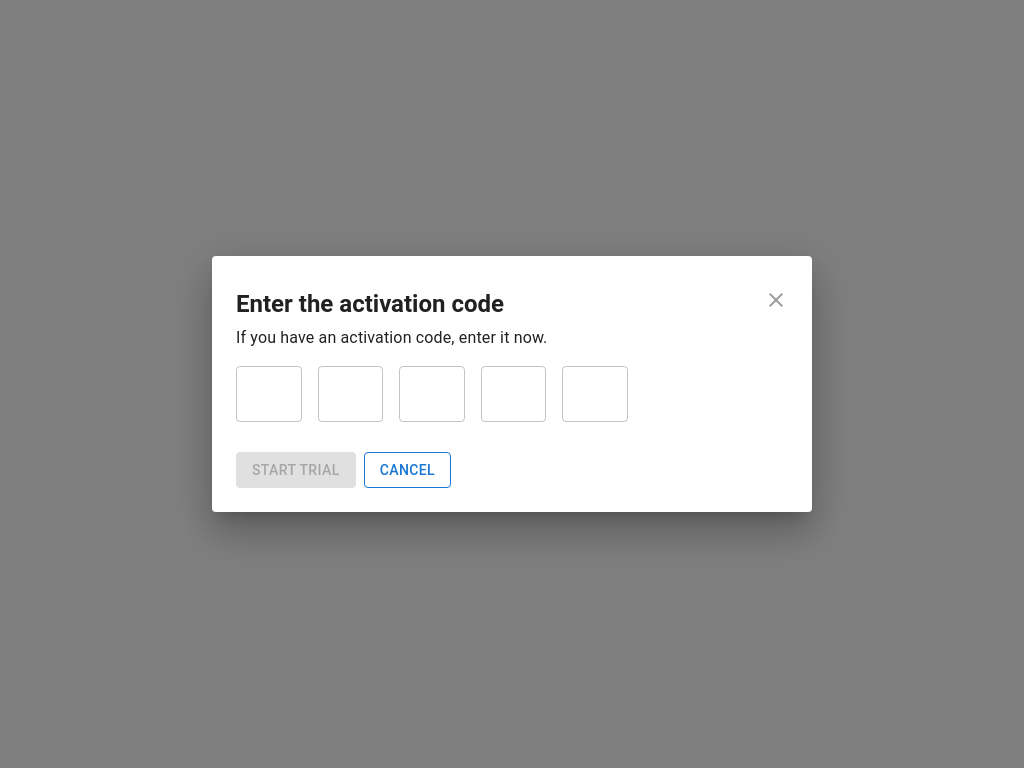
it: AccessCodeInputModal › limits input to one character per field
Type "ABC" into the 1st field.
click(269, 394); type("ABC")  # box [236,366,302,422]
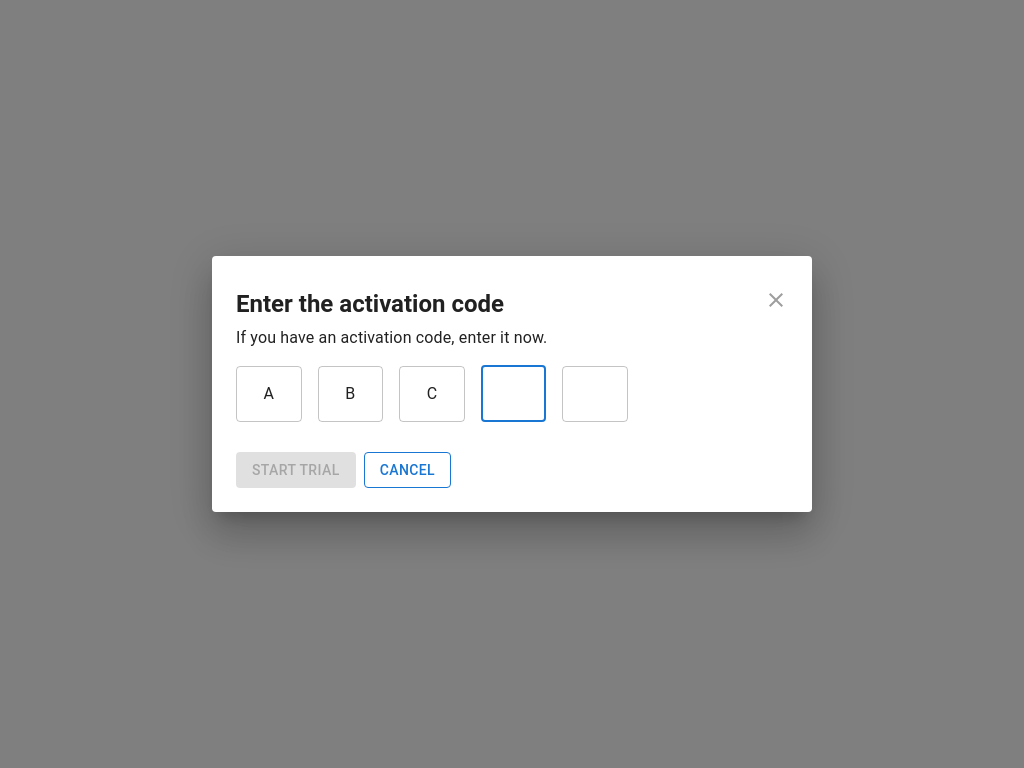
Now the 1st field holds "A", box [236,366,302,422]
